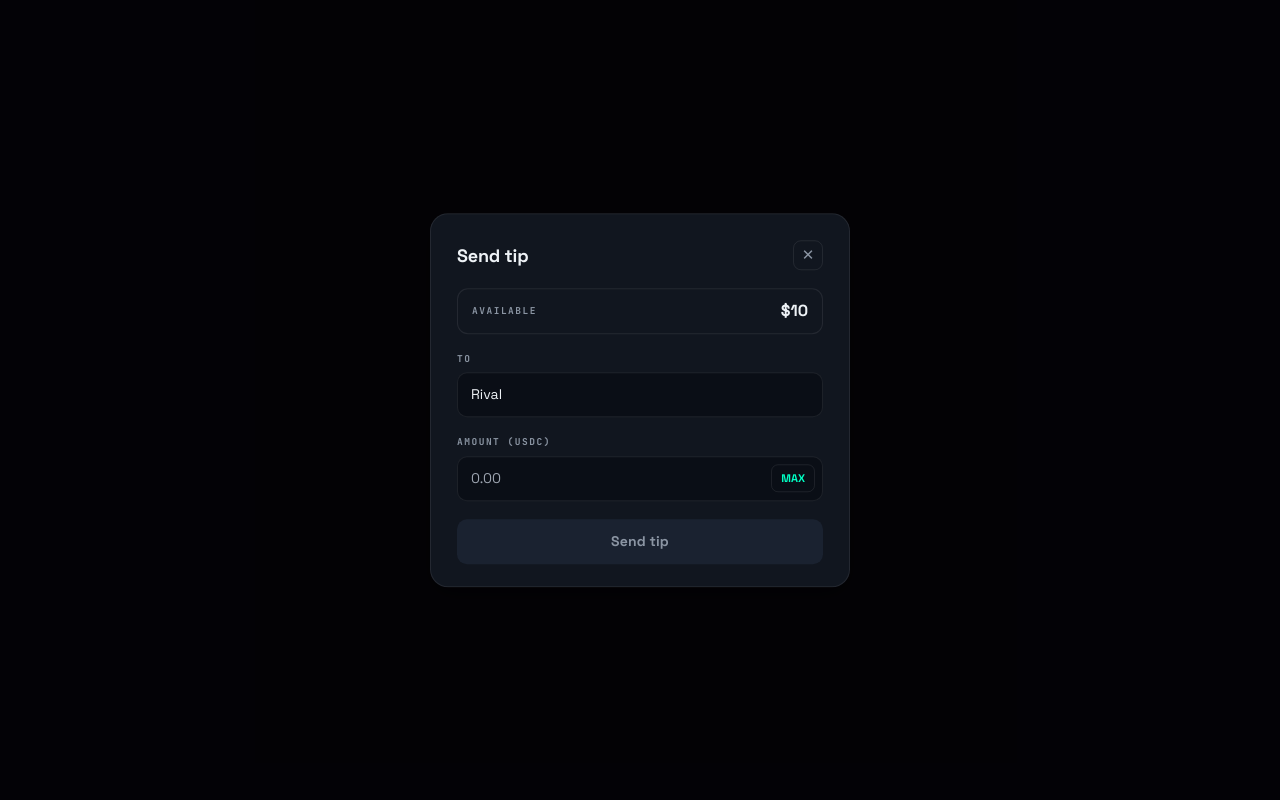
TipModal › explica que no se puede dar propina con una royale en juego, no el mensaje genérico
This screenshot has width=1280, height=800.
Type "2" into the field named "amount".
click(640, 478); type("2")  # box [457,456,823,501]
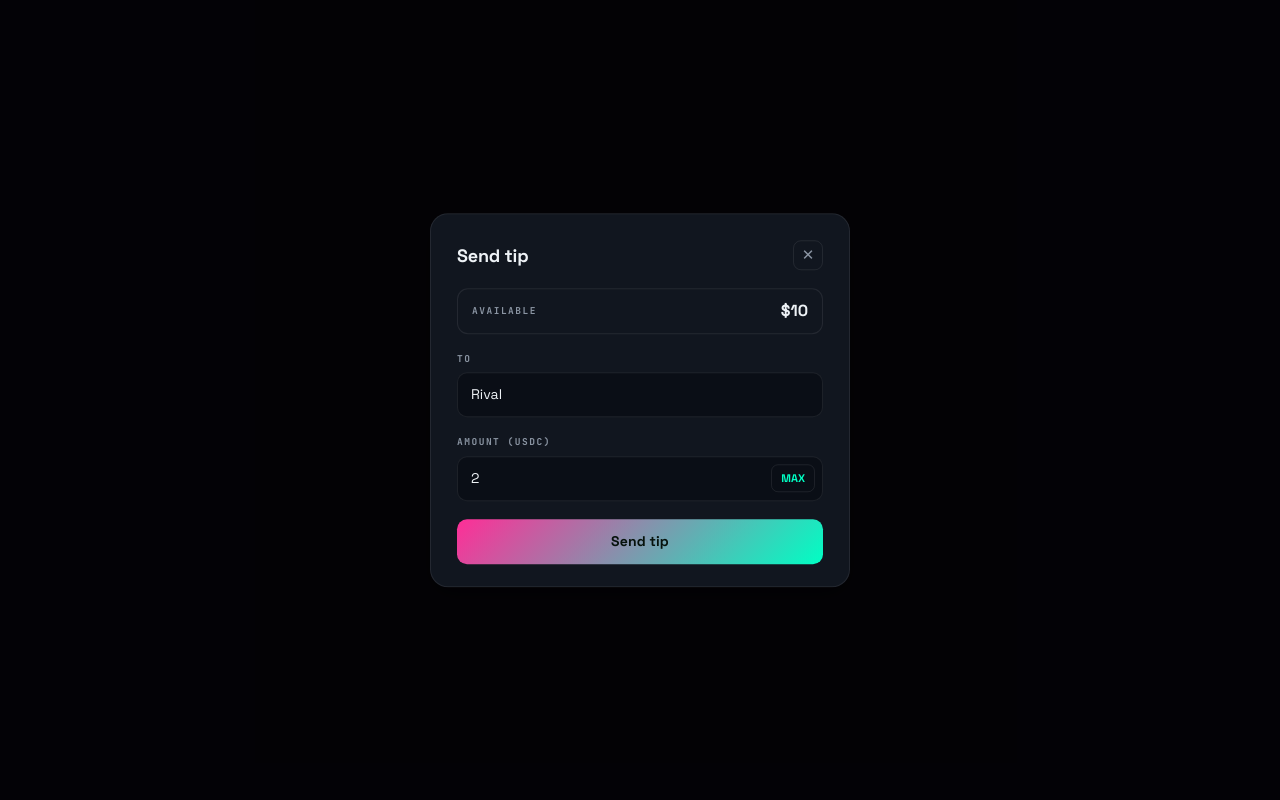
Click the button "Send tip".
click(640, 541)  # box [457,519,823,564]
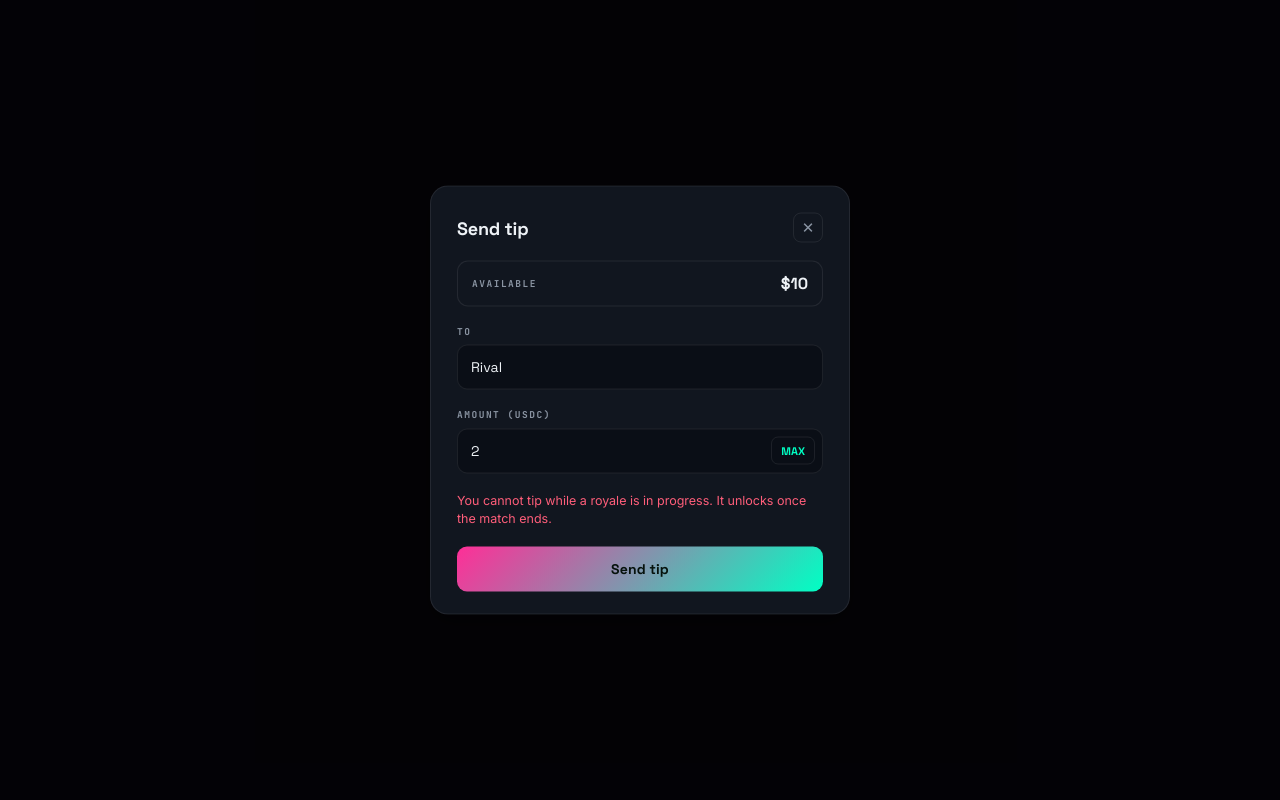
Expected: the text "You cannot tip while a royale is in progress. It unlocks once the match ends." is shown, [457,491,823,528]
